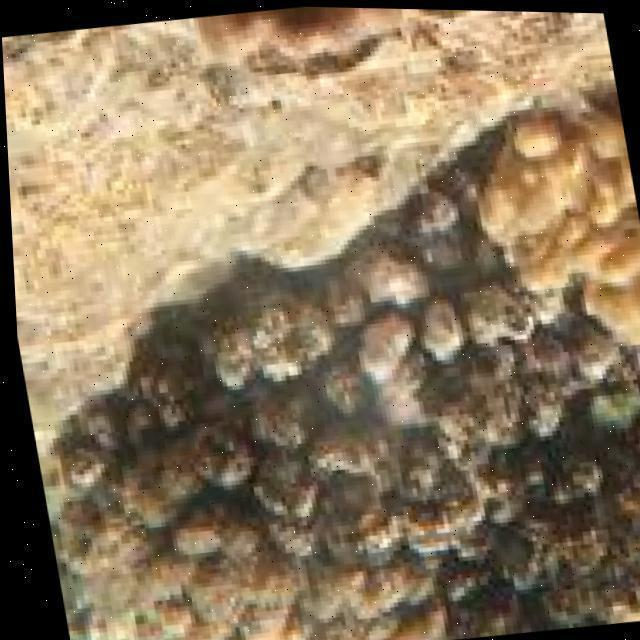Dead Coral: (51, 210, 640, 640)
